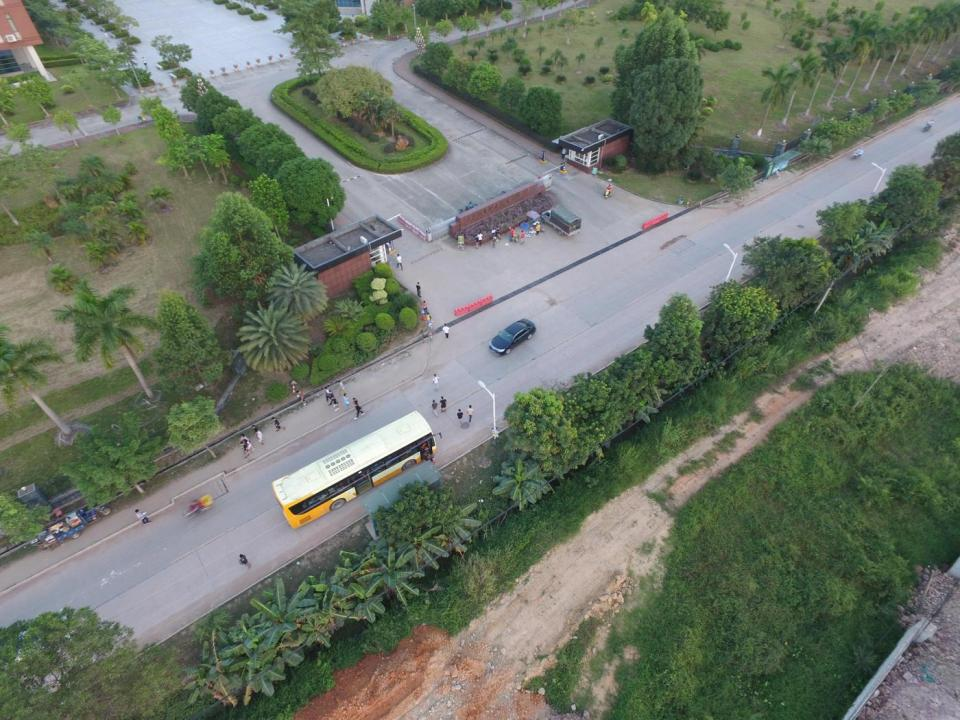bus: (270, 409, 435, 530)
car: (490, 317, 536, 354)
truck: (50, 505, 113, 546), (541, 207, 581, 236)
